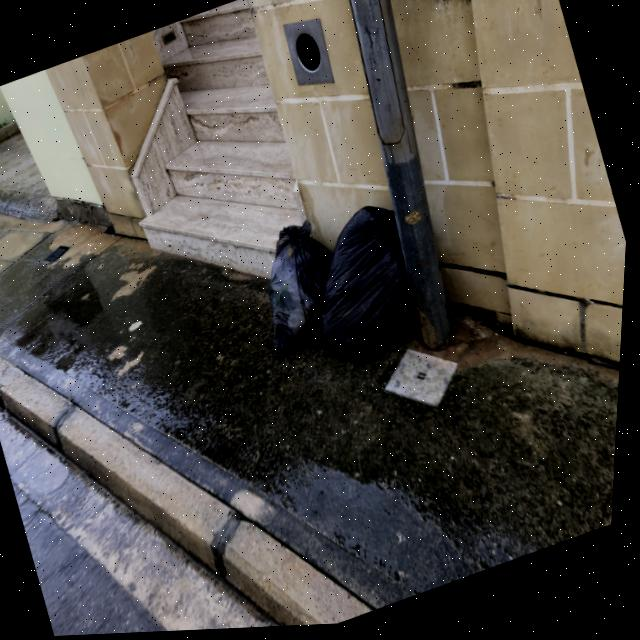Mixed Waste -Black Bag-: (291, 199, 440, 378), (247, 215, 365, 366)
